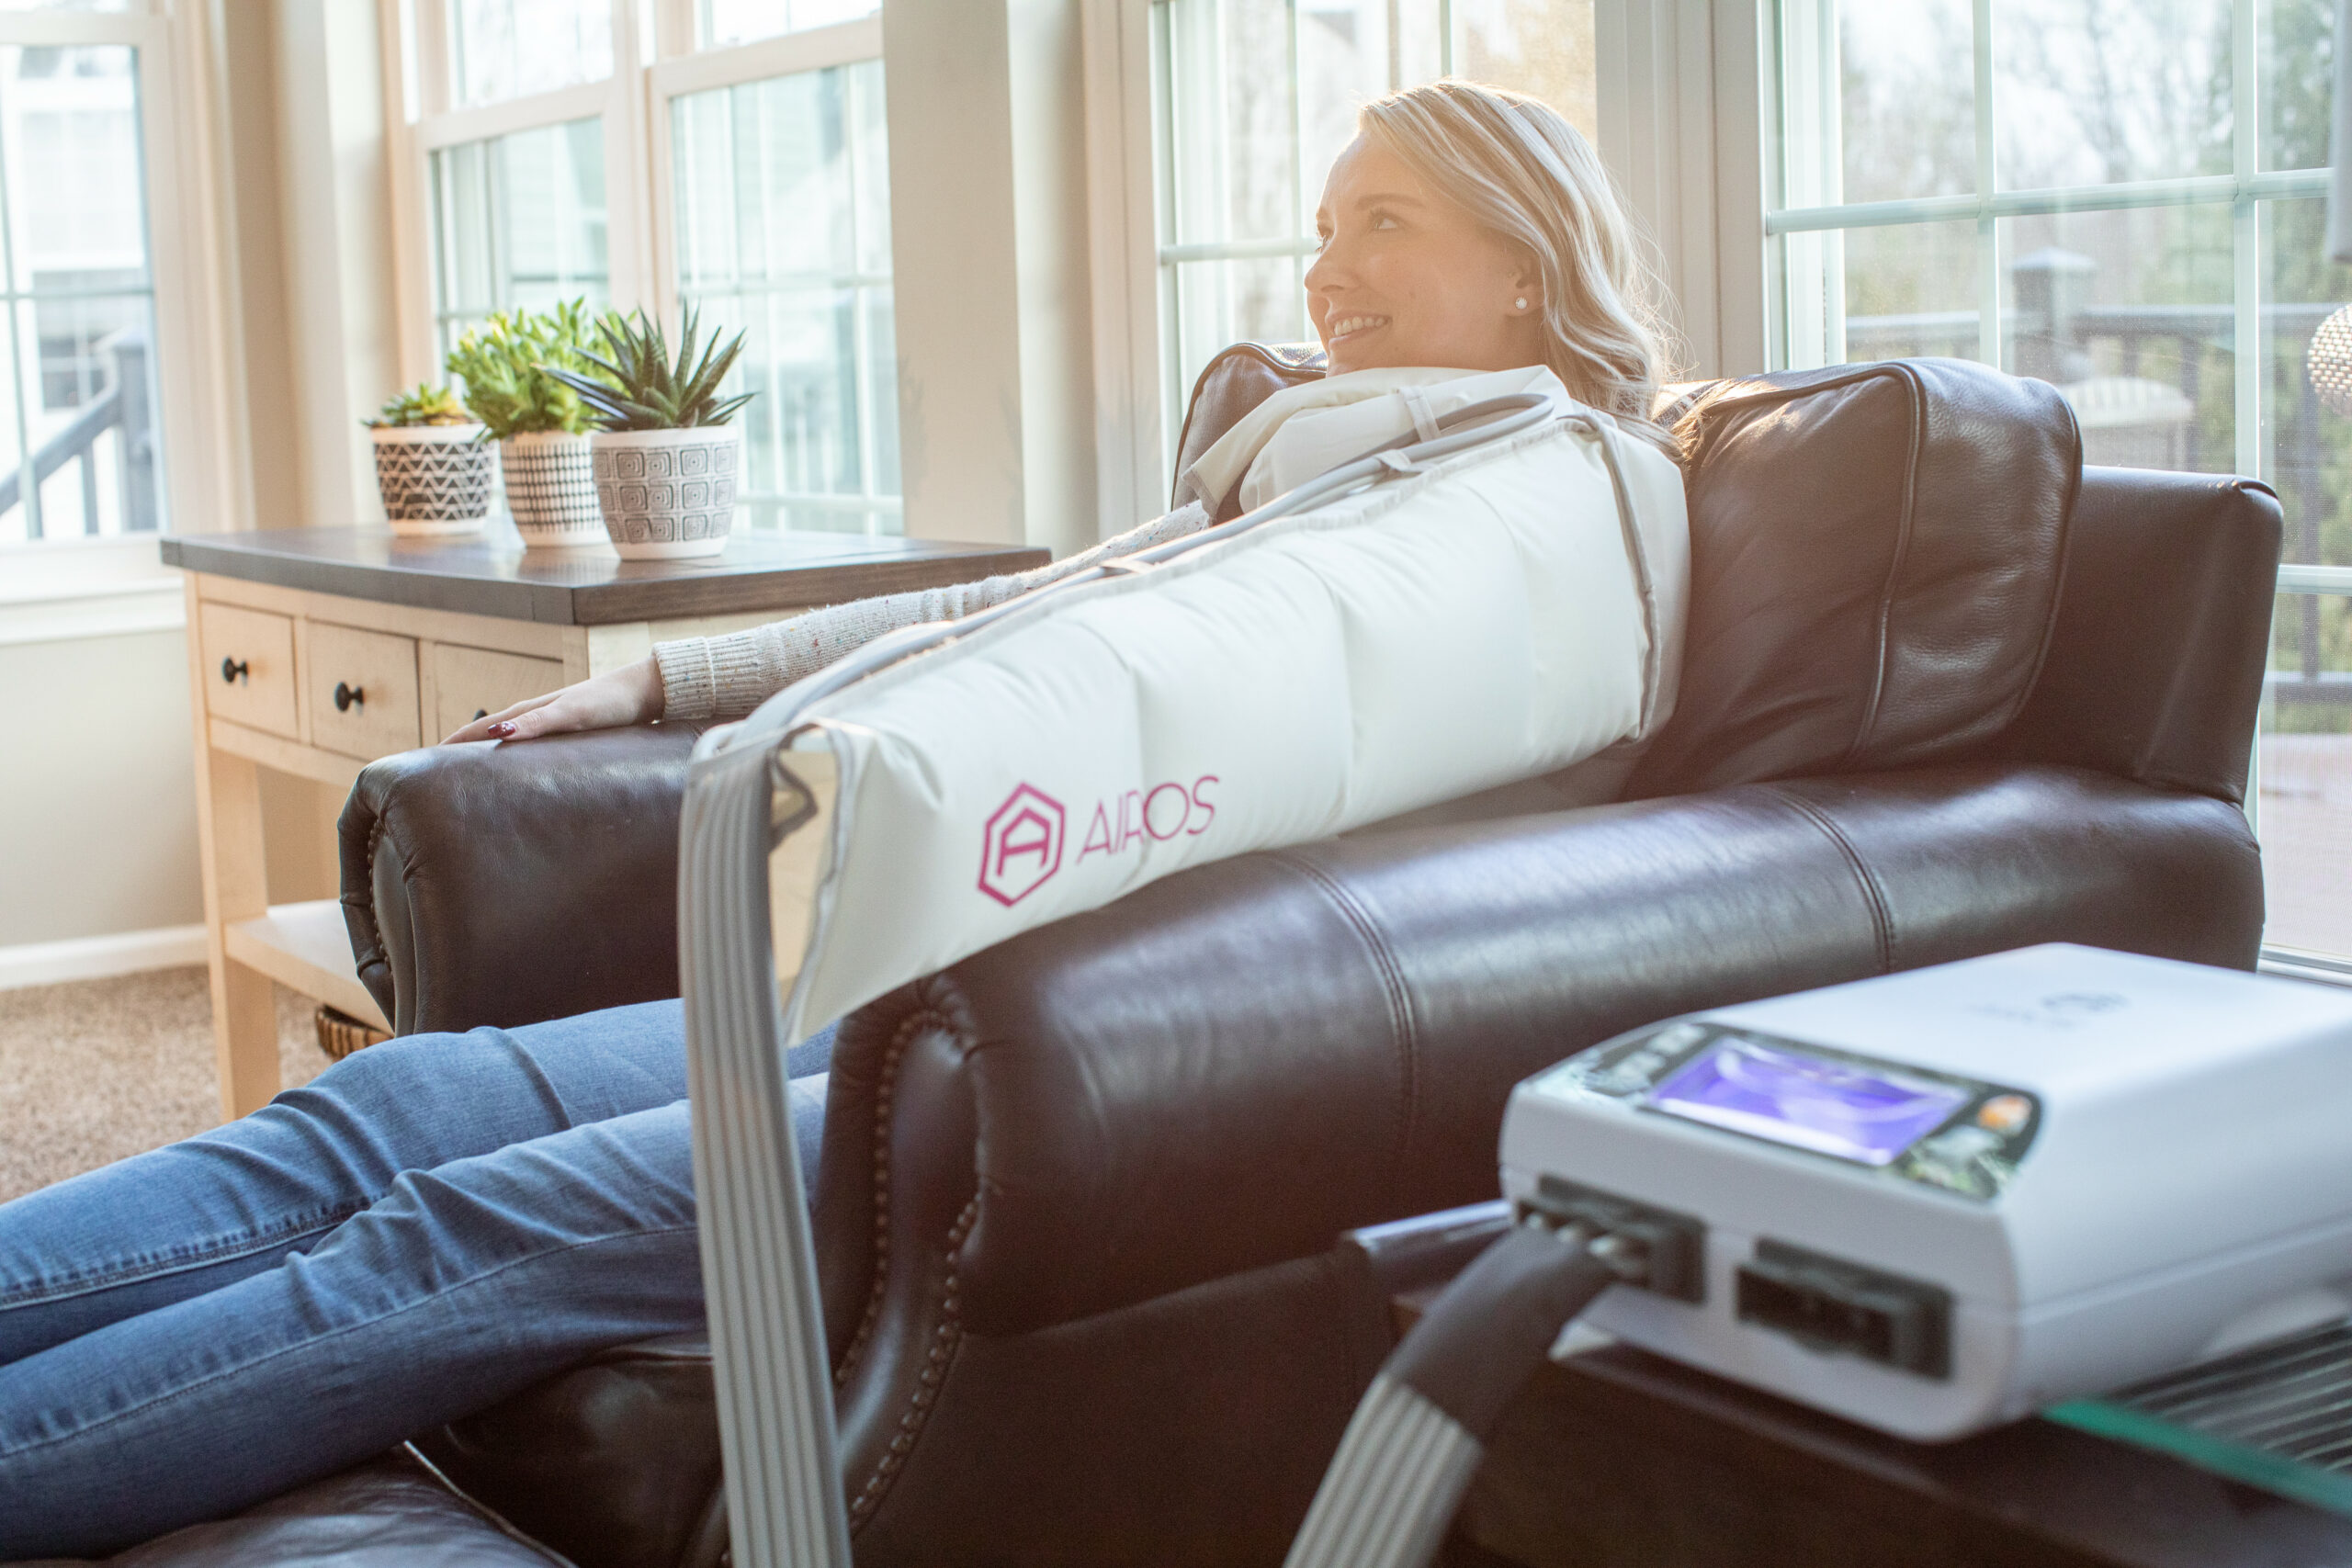handle: (325, 674, 370, 715), (208, 650, 248, 688)
patient: (1, 76, 1689, 1568)
sequential_compression: (681, 393, 2352, 1567)
sofa: (1, 358, 2284, 1567)
table: (164, 509, 1052, 1159)
